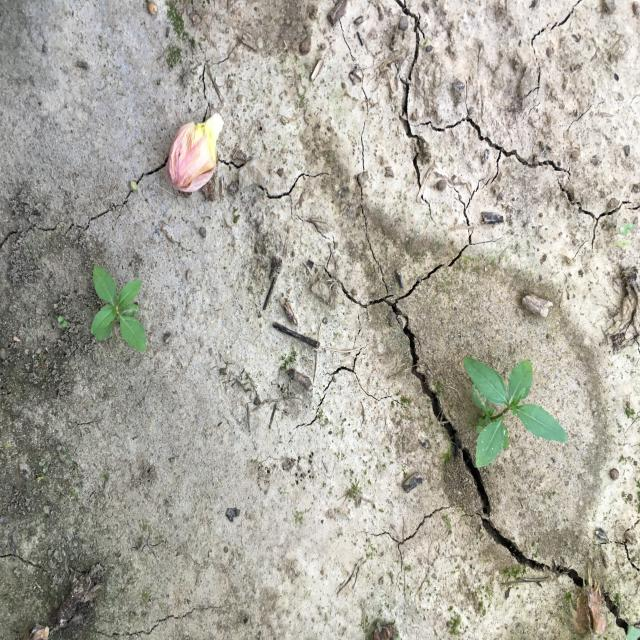Eclipta: (463, 353, 569, 470), (89, 264, 148, 354)
